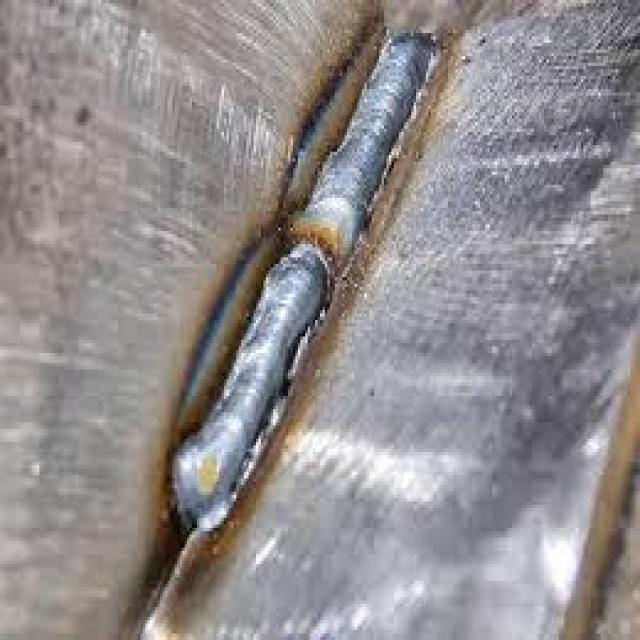Bad Weld: (162, 32, 434, 534)
